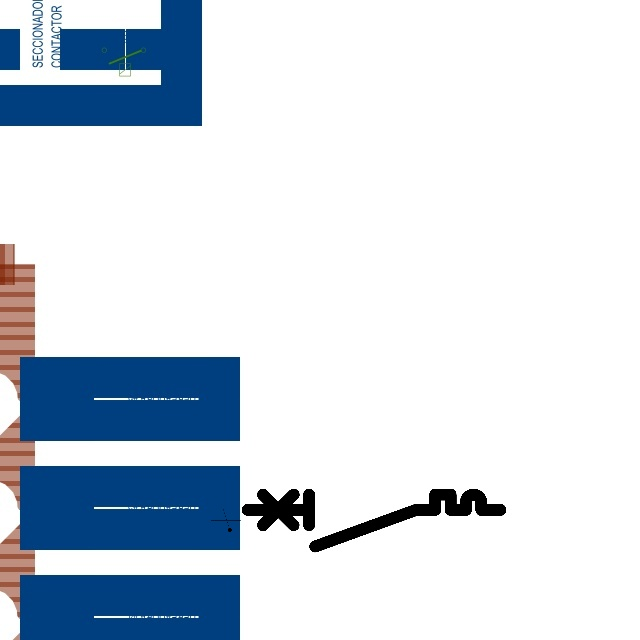interruptor_termomagnetico: (241, 488, 507, 553)
